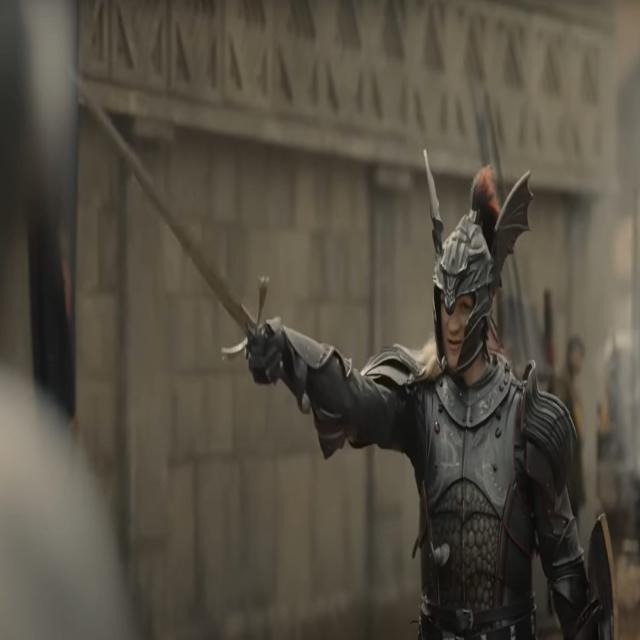sword: (80, 72, 311, 411)
